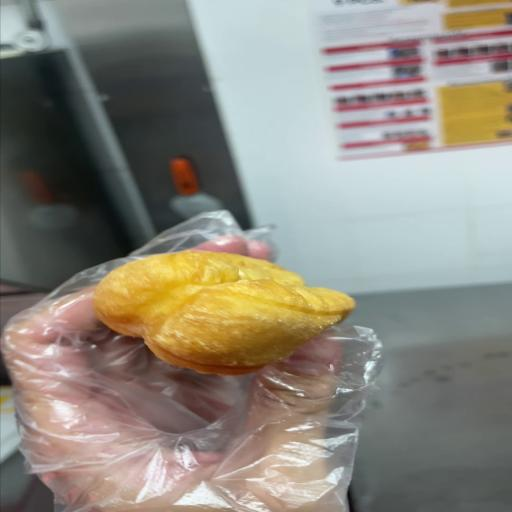brand_golden_good: (94, 251, 354, 375)
